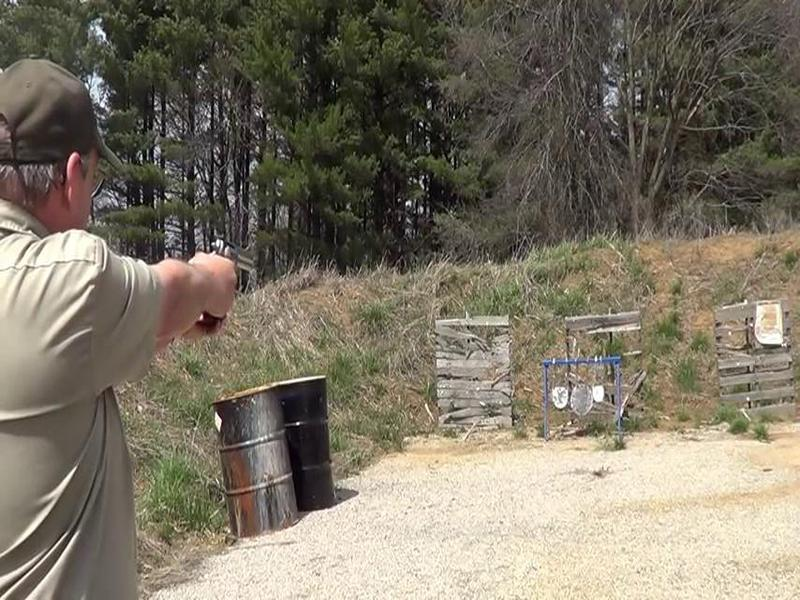Revolver: (199, 225, 266, 313)
